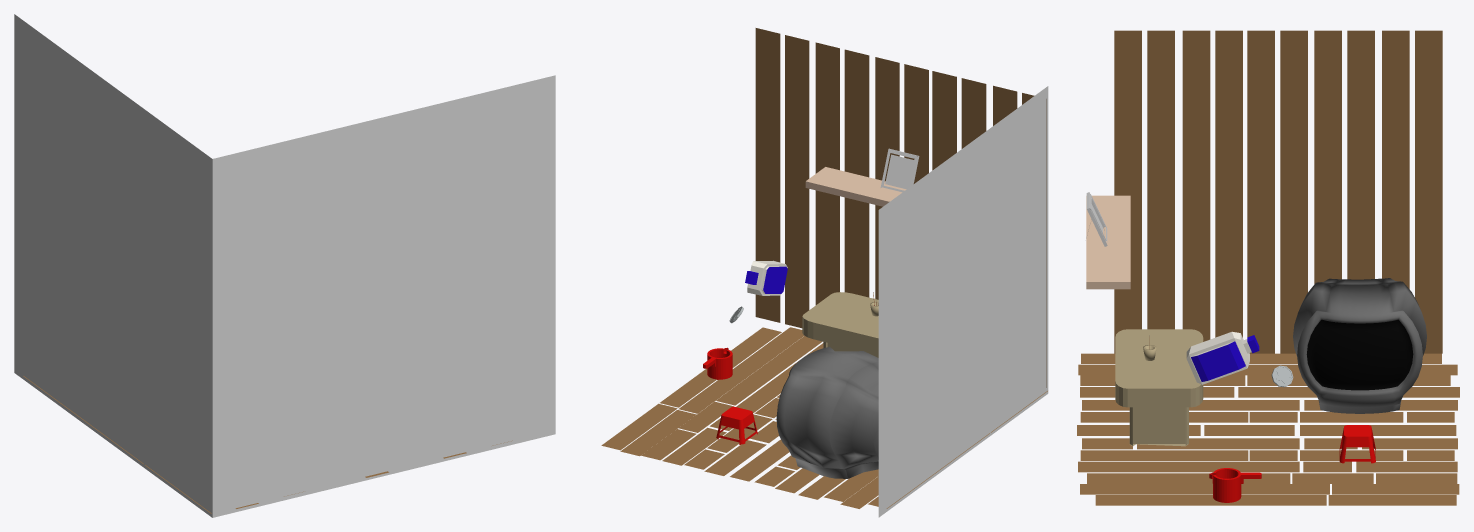
The model's file is coin.glb.
3 views of the same model, side by side, from view 1: azimuth 30°, elevation 25°; view 2: azimuth 150°, elevation 25°; view 3: azimuth 270°, elevation 25° (orthographic). The views are drawn at different scales.
Visible parts, largest first — view 1: Cube.001; view 2: Cube.001, Plane.008, Plane.015, Plane.009, Plane, Cube, Cube.005, Plane.002, Plane.001, Circle.002; view 3: Plane.010, Plane.015, Plane.009, Plane, Cube, Cube.005, Circle.002, Plane.001, Plane.002.
Part boxes in pixels (x1,y1,x2,y2): Cube.001: (14, 14, 555, 517); Cube.001: (878, 86, 1048, 517); Plane.008: (755, 28, 1046, 387); Plane.015: (601, 327, 1047, 508); Plane.009: (776, 346, 878, 478); Plane: (802, 292, 878, 357); Cube: (805, 167, 906, 206); Cube.005: (745, 260, 787, 295); Plane.002: (880, 148, 919, 192); Plane.001: (716, 406, 757, 444); Circle.002: (703, 347, 732, 379); Plane.010: (1114, 30, 1442, 353); Plane.015: (1077, 353, 1459, 505); Plane.009: (1293, 278, 1426, 413); Plane: (1115, 329, 1203, 446); Cube: (1086, 195, 1130, 289); Cube.005: (1186, 331, 1259, 384); Circle.002: (1209, 468, 1261, 502); Plane.001: (1339, 425, 1375, 463); Plane.002: (1086, 192, 1107, 246).
Bounding box in the file's own units: 26.87 × 26.81 × 27.05.
